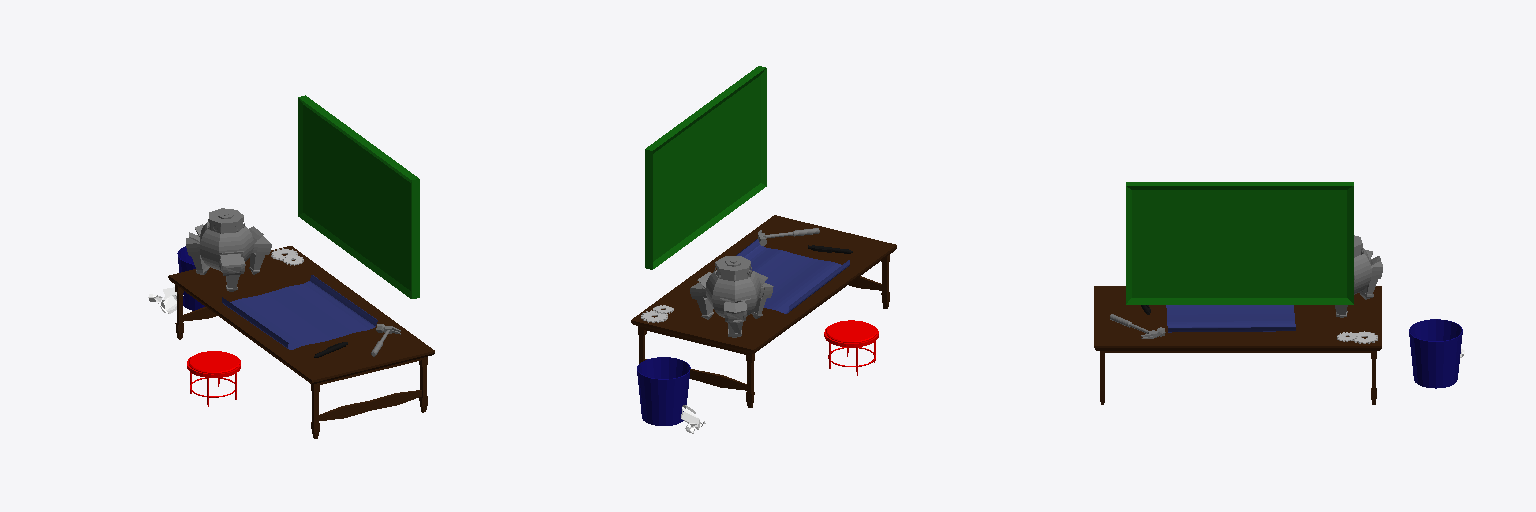
Rendered from FinalmodelOBJ.obj.
3 renders of one model, left to right at view 1: azimuth 30°, elevation 25°; view 2: azimuth 150°, elevation 25°; view 3: azimuth 270°, elevation 25°, orthographic.
Visible parts, largest first — view 1: pCube7, group1 tableTop, loftedSurface1, pCylinder35, pCube10, group3 pCylinder42, pCylinder43; view 2: pCube7, group1 tableTop, pCylinder35, loftedSurface1, pCylinder43, group3 pCylinder42, pCube9; view 3: pCube7, group1 tableTop, loftedSurface1, pCylinder43, pCylinder35, group1 tableTop4.
Part boxes in pixels (bbox=[...]): pCube7: bbox=[298, 95, 419, 298]; group1 tableTop: bbox=[168, 246, 434, 384]; loftedSurface1: bbox=[222, 275, 377, 349]; pCylinder35: bbox=[186, 208, 271, 291]; pCube10: bbox=[319, 390, 421, 420]; group3 pCylinder42: bbox=[189, 351, 239, 373]; pCylinder43: bbox=[177, 246, 204, 310]; pCube7: bbox=[645, 66, 766, 269]; group1 tableTop: bbox=[631, 215, 896, 353]; pCylinder35: bbox=[690, 256, 773, 337]; loftedSurface1: bbox=[736, 239, 849, 313]; pCylinder43: bbox=[637, 357, 690, 425]; group3 pCylinder42: bbox=[826, 320, 876, 342]; pCube9: bbox=[644, 359, 746, 390]; pCube7: bbox=[1126, 182, 1353, 304]; group1 tableTop: bbox=[1094, 286, 1381, 350]; loftedSurface1: bbox=[1166, 305, 1295, 332]; pCylinder43: bbox=[1409, 319, 1462, 388]; pCylinder35: bbox=[1335, 235, 1382, 317]; group1 tableTop4: bbox=[1105, 351, 1370, 352].
Size of the model in its own units: 3.4 by 4.23 by 6.32.